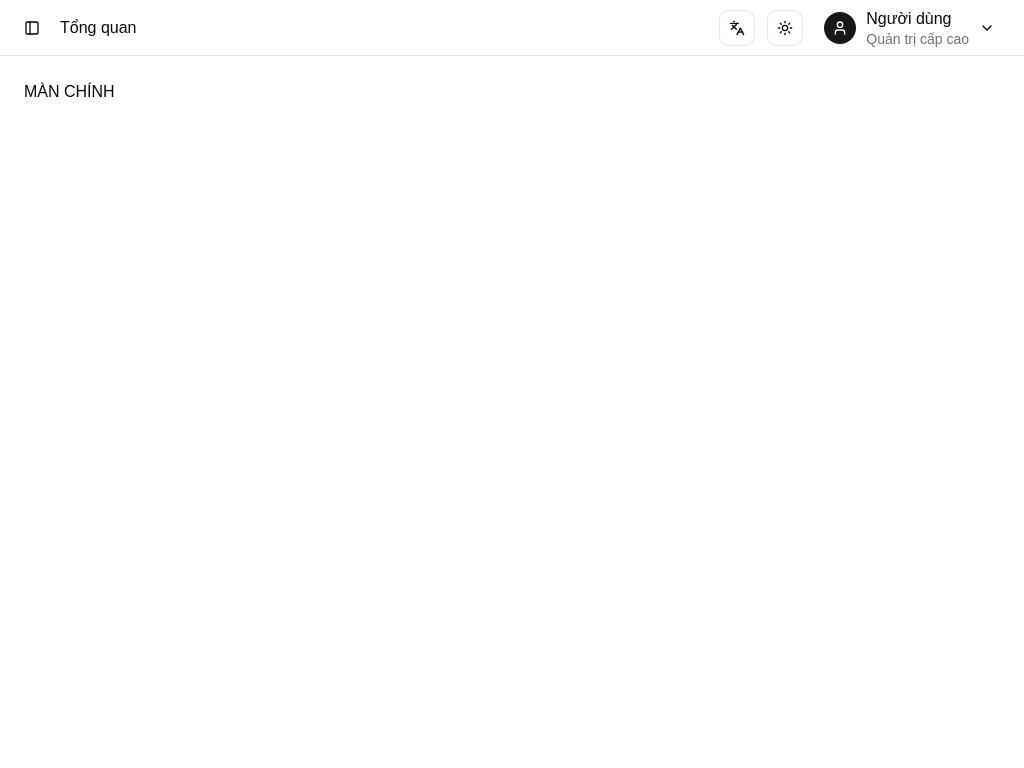
AppShell — sidebar › màn < 768px: sidebar là ngăn trượt mở bằng nút ☰; chọn mục → điều hướng và tự đóng
Expected: the link "Example" is not shown
Click the button named "Thu gọn / mở rộng menu": [32, 28] box 16,12 -> 48,44
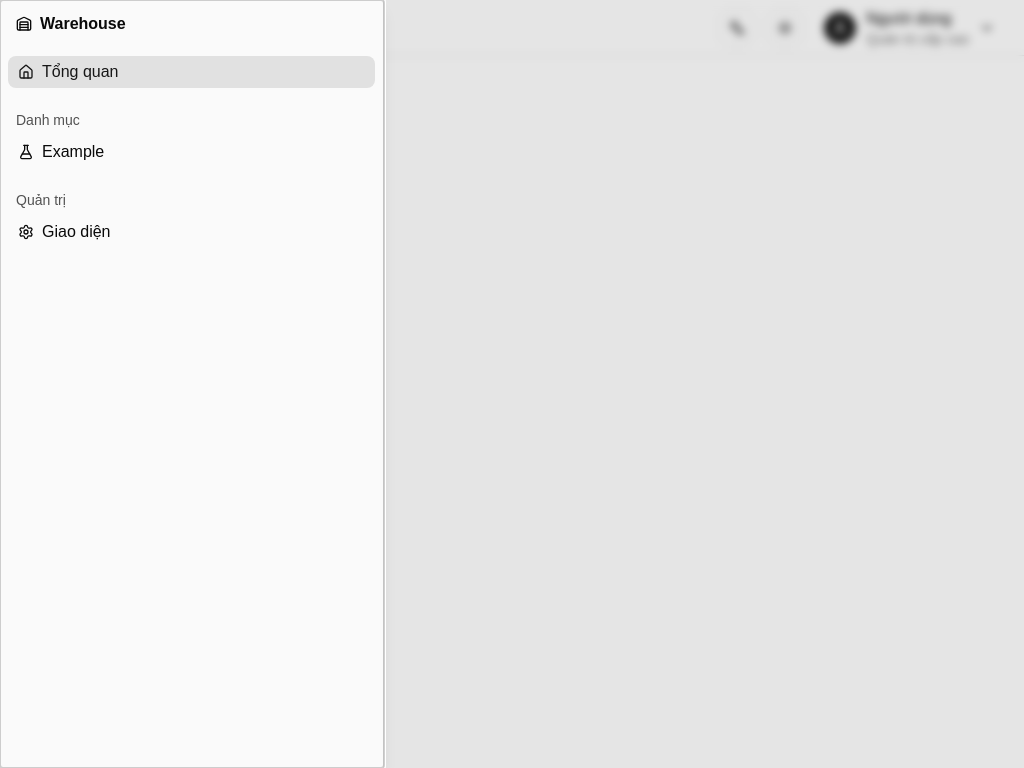
Expected: the button named "Thu gọn / mở rộng menu" is expanded, 16,12 -> 48,44
Click the link "Example": [61, 152] box 18,143 -> 104,160
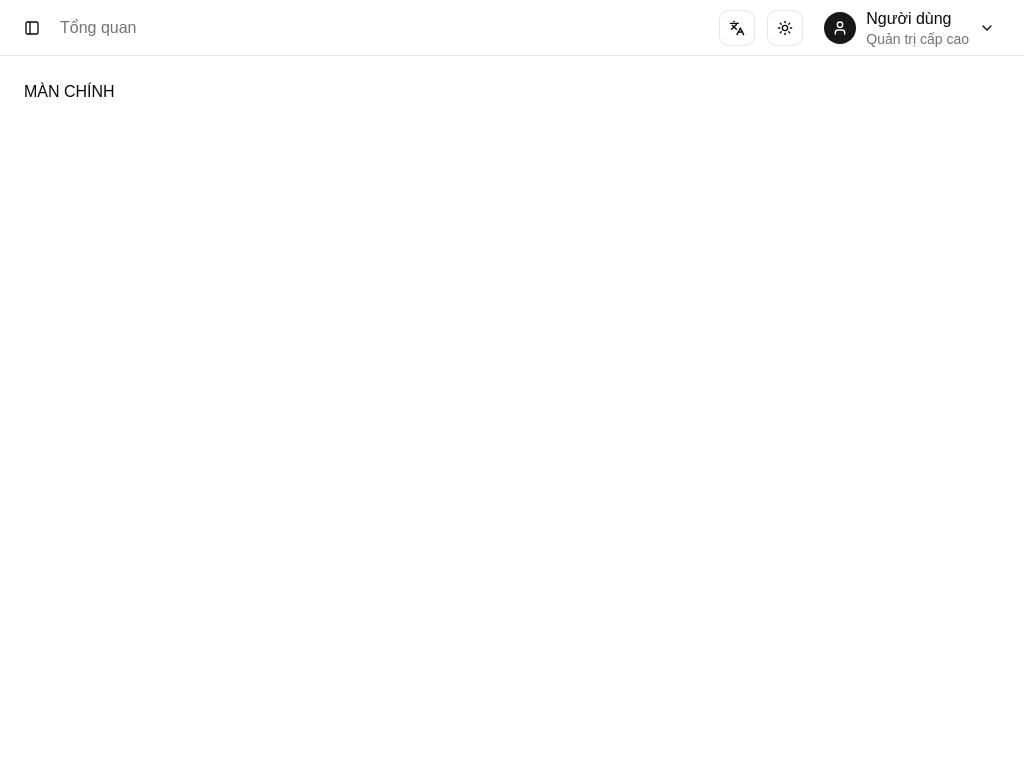
Expected: the dialog is gone
